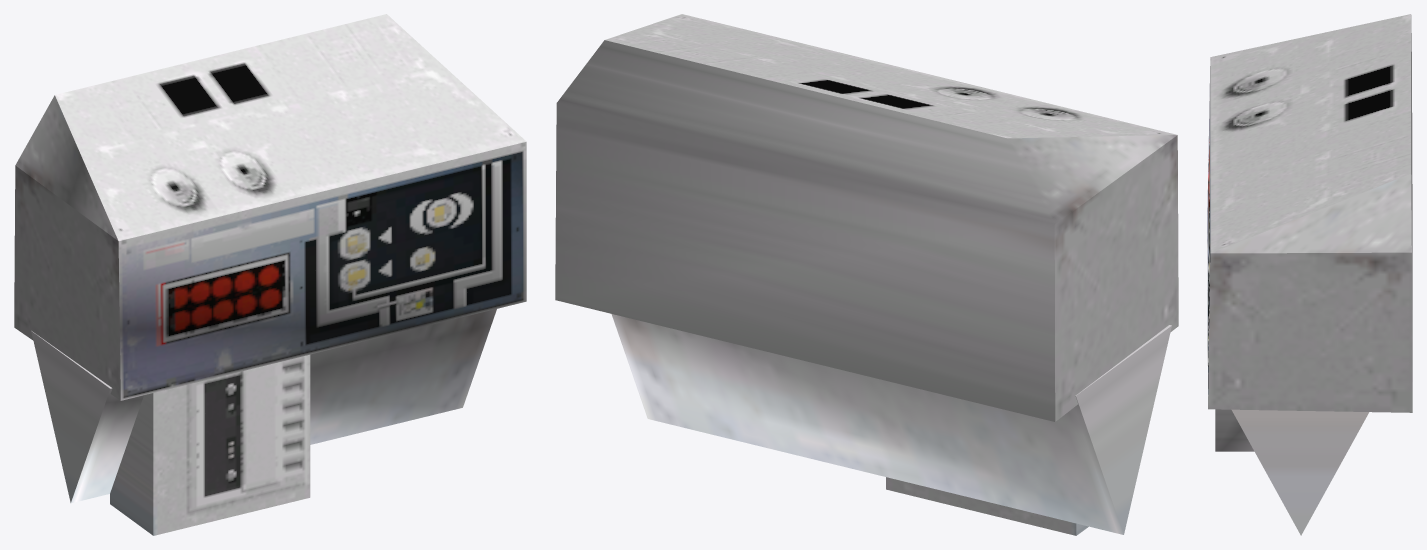
File: eqp_acc_imp_atat_pilot_life_support_pack_l3.fbx
3 views of the same model, side by side, from view 1: azimuth 30°, elevation 25°; view 2: azimuth 150°, elevation 25°; view 3: azimuth 270°, elevation 25° (orthographic). The views are drawn at different scales.
Parts seen in each view (by area): view 1: mesh_node; view 2: mesh_node; view 3: mesh_node.
Part boxes in pixels (left/top/right/bottom): mesh_node: left=14, top=14, right=526, bottom=535; mesh_node: left=555, top=14, right=1178, bottom=535; mesh_node: left=1207, top=14, right=1412, bottom=535.
Size of the model in its own units: 0.21 by 0.1794 by 0.092.
1 material, 1 textured.
